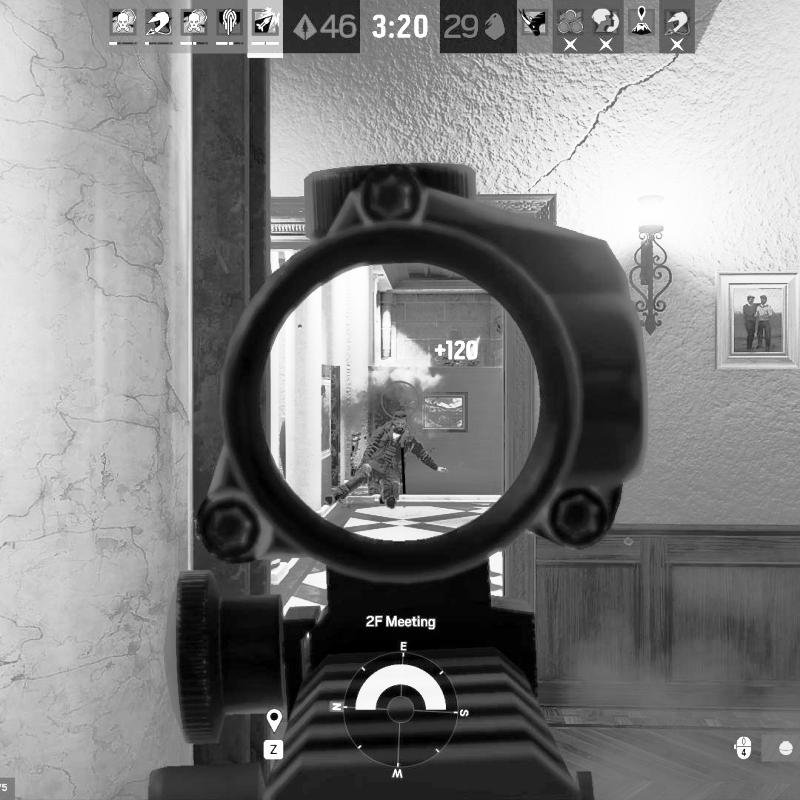Character: (323, 409, 451, 511)
Head: (392, 412, 410, 433)
